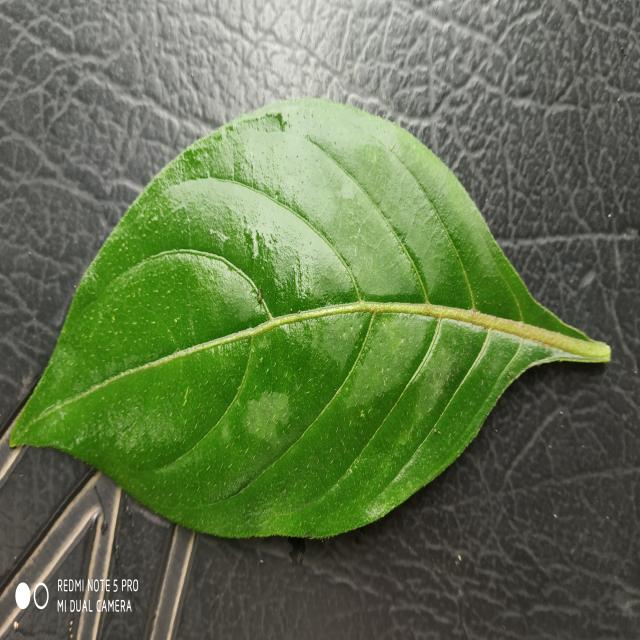ganike: (11, 100, 610, 538)
